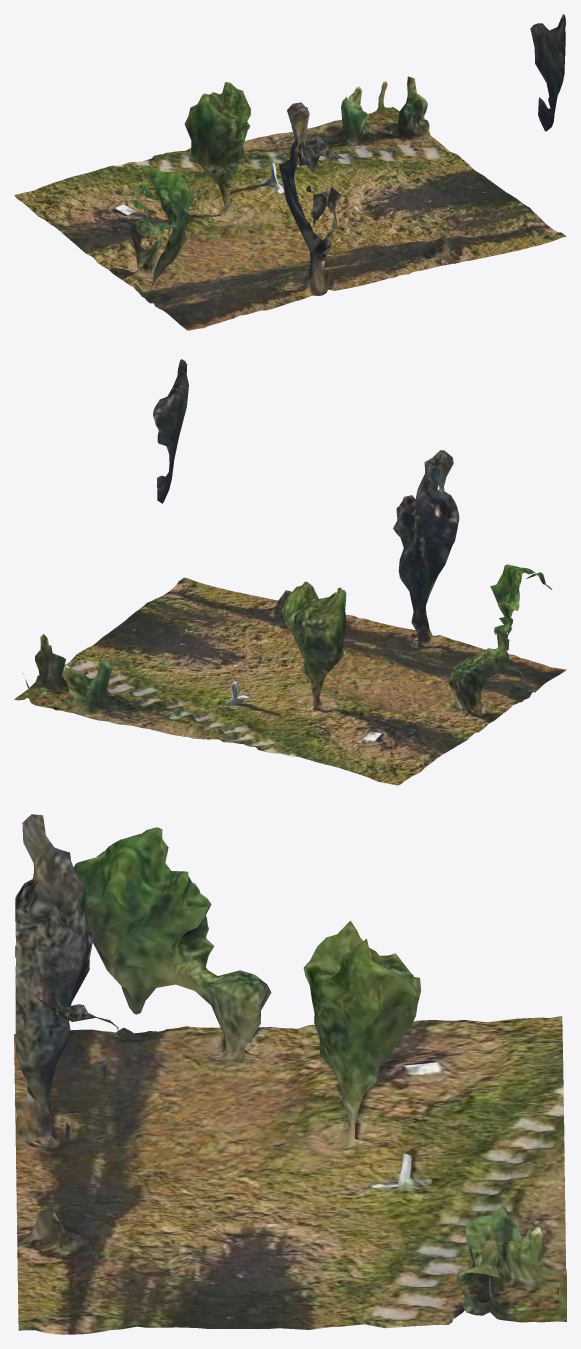
The model's file is Tile_+006_+007_L22_0003020.glb.
3 views of the same model, one above another, from view 1: azimuth 30°, elevation 25°; view 2: azimuth 150°, elevation 25°; view 3: azimuth 270°, elevation 25° (orthographic). The views are drawn at different scales.
Visible parts, largest first — view 1: rtc; view 2: rtc; view 3: rtc.
Boxes of the visible parts, x1,y1,x2,y2 form: rtc: [14, 14, 566, 330]; rtc: [14, 359, 566, 785]; rtc: [14, 814, 566, 1334].
Bounding box in the file's own units: 8.86 × 4.94 × 6.94.
Materials: 1 (1 with a texture image).
